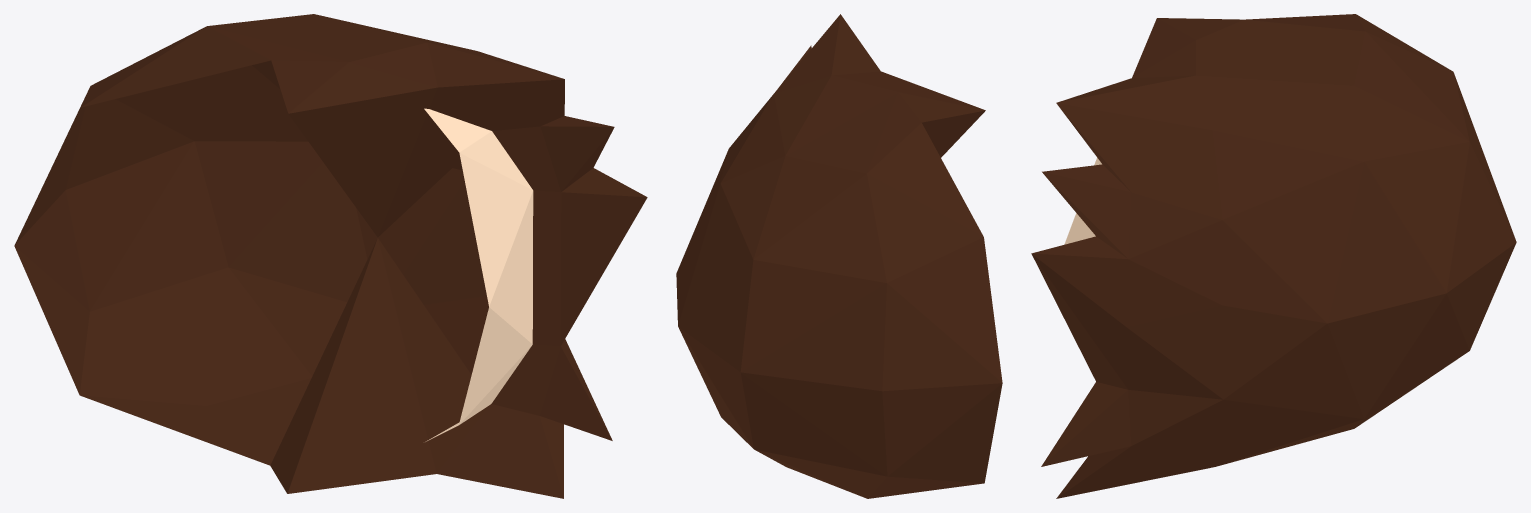
Rendered from hair25.glb.
3 views of the same model, side by side, from view 1: azimuth 30°, elevation 25°; view 2: azimuth 150°, elevation 25°; view 3: azimuth 270°, elevation 25° (orthographic). The views are drawn at different scales.
Visible parts, largest first — view 1: tomodachi-2026-03-17-09-07-59-922, tomodachi-2026-03-17-09-07-59-922.008; view 2: tomodachi-2026-03-17-09-07-59-922; view 3: tomodachi-2026-03-17-09-07-59-922.
Part boxes in pixels (bbox=[...]): tomodachi-2026-03-17-09-07-59-922: bbox=[14, 14, 647, 498]; tomodachi-2026-03-17-09-07-59-922.008: bbox=[424, 108, 533, 441]; tomodachi-2026-03-17-09-07-59-922: bbox=[676, 14, 1002, 498]; tomodachi-2026-03-17-09-07-59-922: bbox=[1031, 14, 1516, 498].
Bounding box in the file's own units: 1.18 × 1.08 × 1.2.
2 materials, 2 textured.
